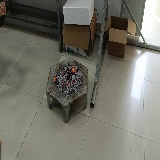fire: (53, 76, 56, 82), (72, 66, 75, 72)
